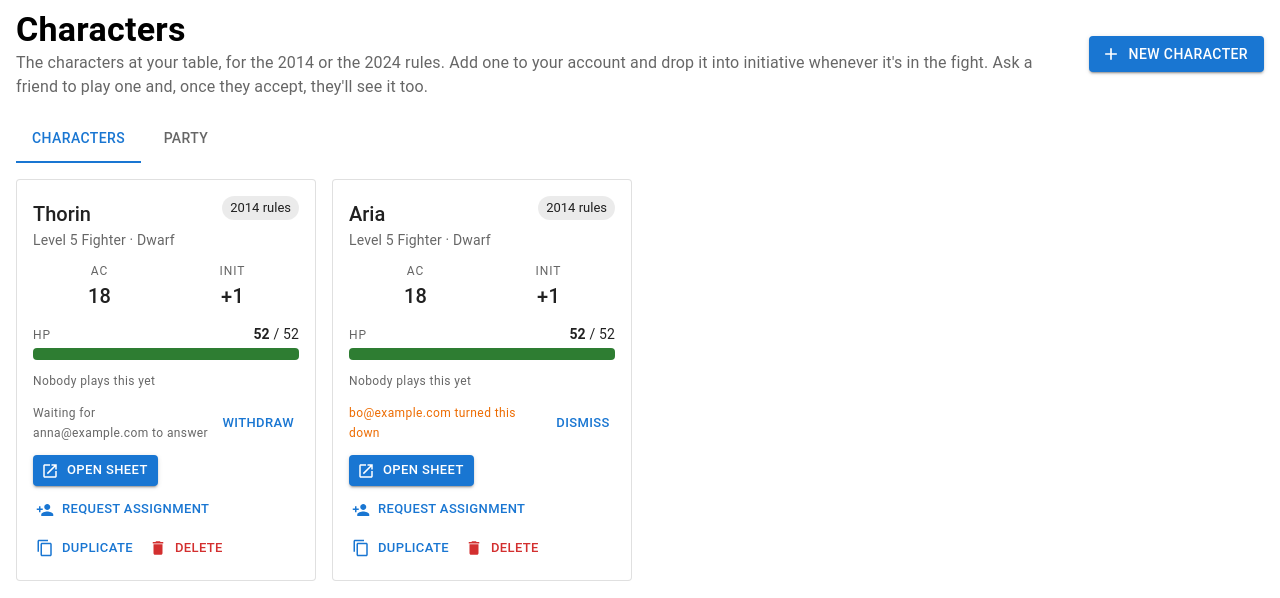
Scenario: asking someone to play › shows a waiting request and a turned-down one, and withdraws or dismisses them
Expected: the list named "Your characters" is shown, [16, 179, 632, 581]
Expected: the text "Waiting for anna@example.com to answer" is shown, [33, 404, 210, 443]
Click the button "Withdraw": (258, 424) [218, 408, 299, 439]
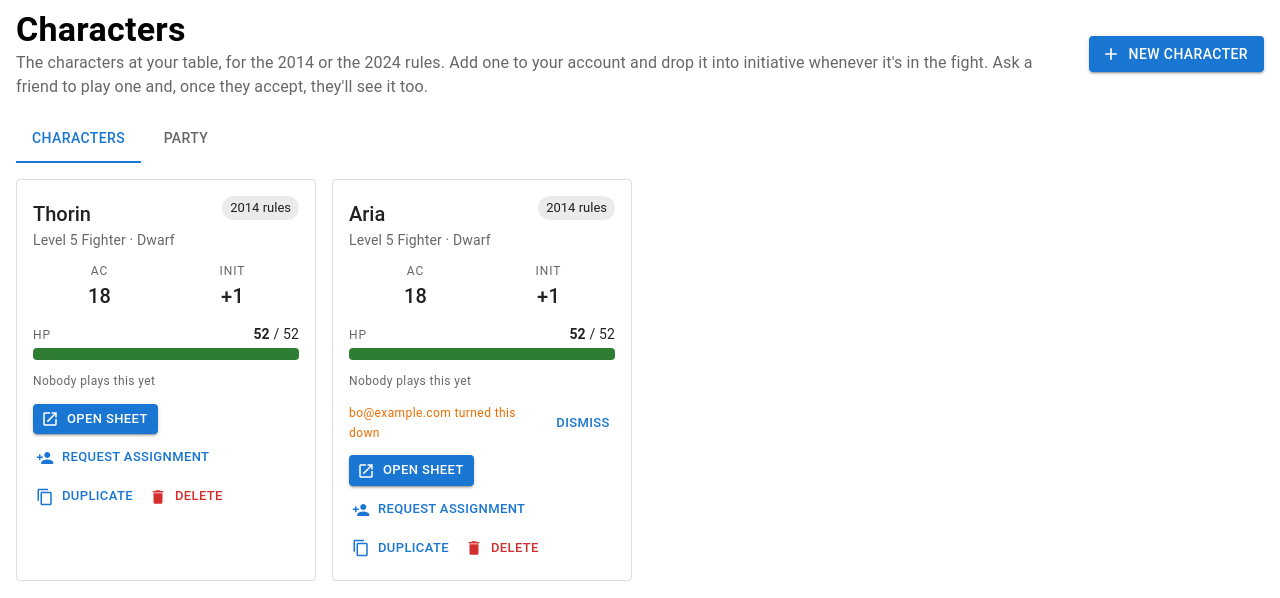
Result: the text "Waiting for" is gone
Click the button "Dismiss": (583, 424) [551, 408, 615, 439]
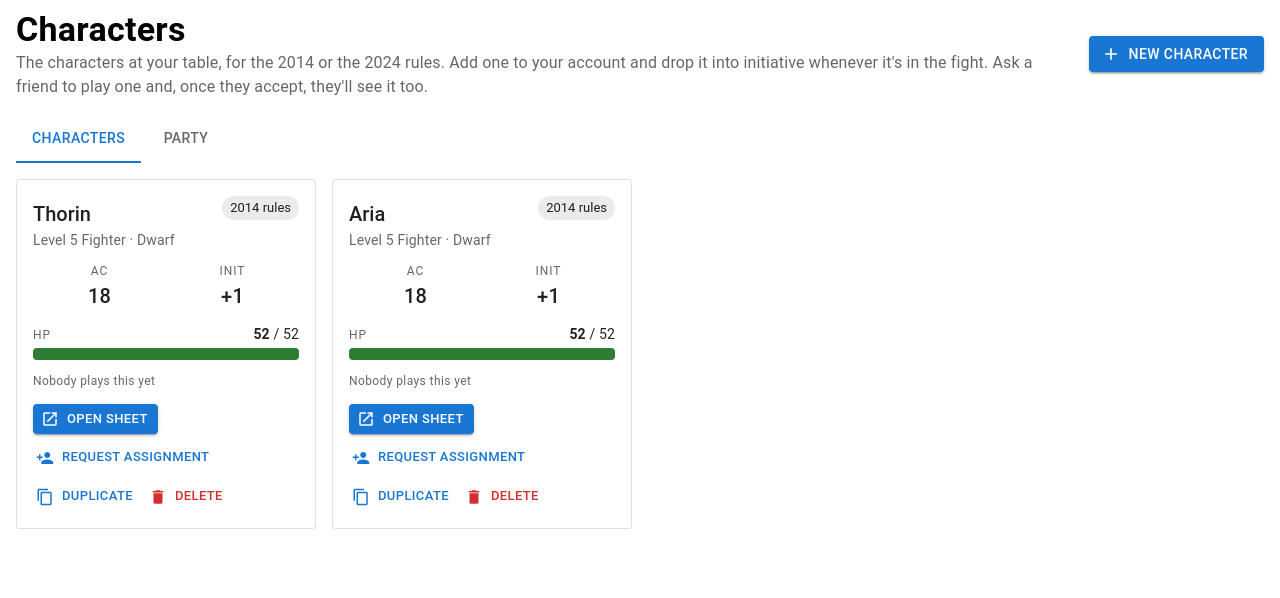
Result: the text "turned this down" is gone
